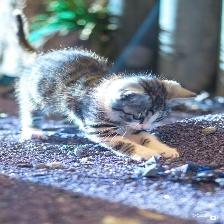kedo: (15, 13, 198, 162)
